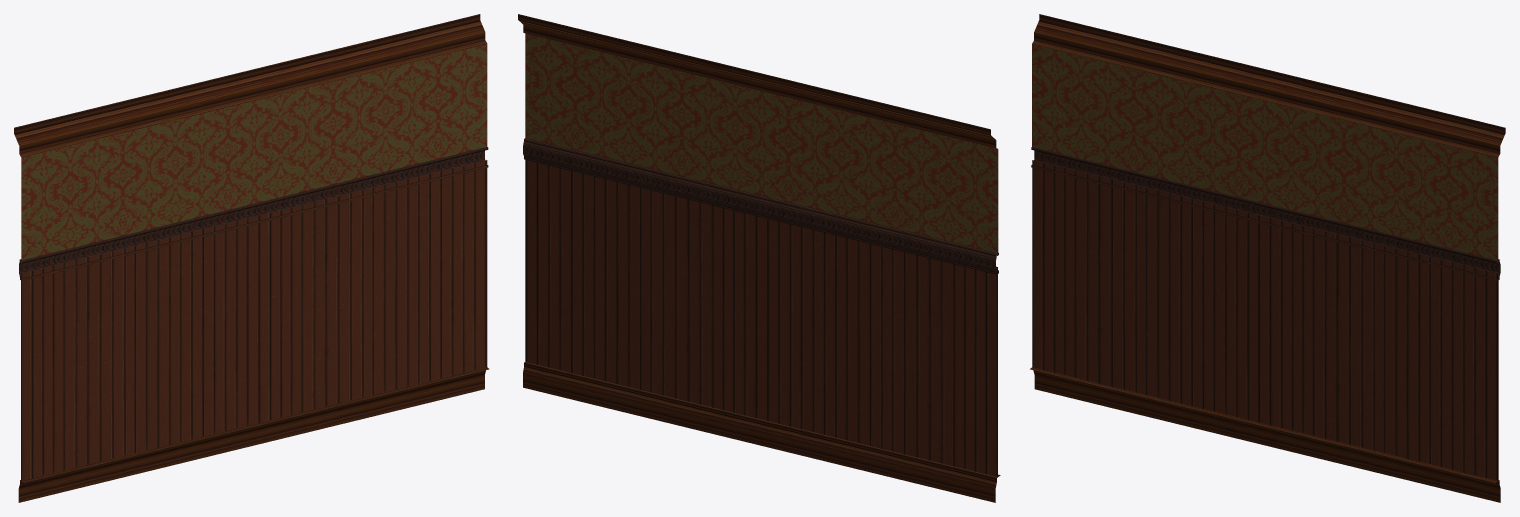
The model's file is Wall2Med.fbx.
The picture shows the model from 3 angles, left to right: view 1: azimuth 30°, elevation 25°; view 2: azimuth 150°, elevation 25°; view 3: azimuth 330°, elevation 25°; orthographic projection.
Parts seen in each view (by area): view 1: WallSection2Med; view 2: WallSection2Med; view 3: WallSection2Med.
Part boxes in pixels (box(x1,y1,x2,y2)): WallSection2Med: box(14, 14, 489, 502); WallSection2Med: box(518, 14, 1000, 502); WallSection2Med: box(1030, 14, 1505, 502).
Bounding box in the file's own units: 369 × 281 × 13.47.
